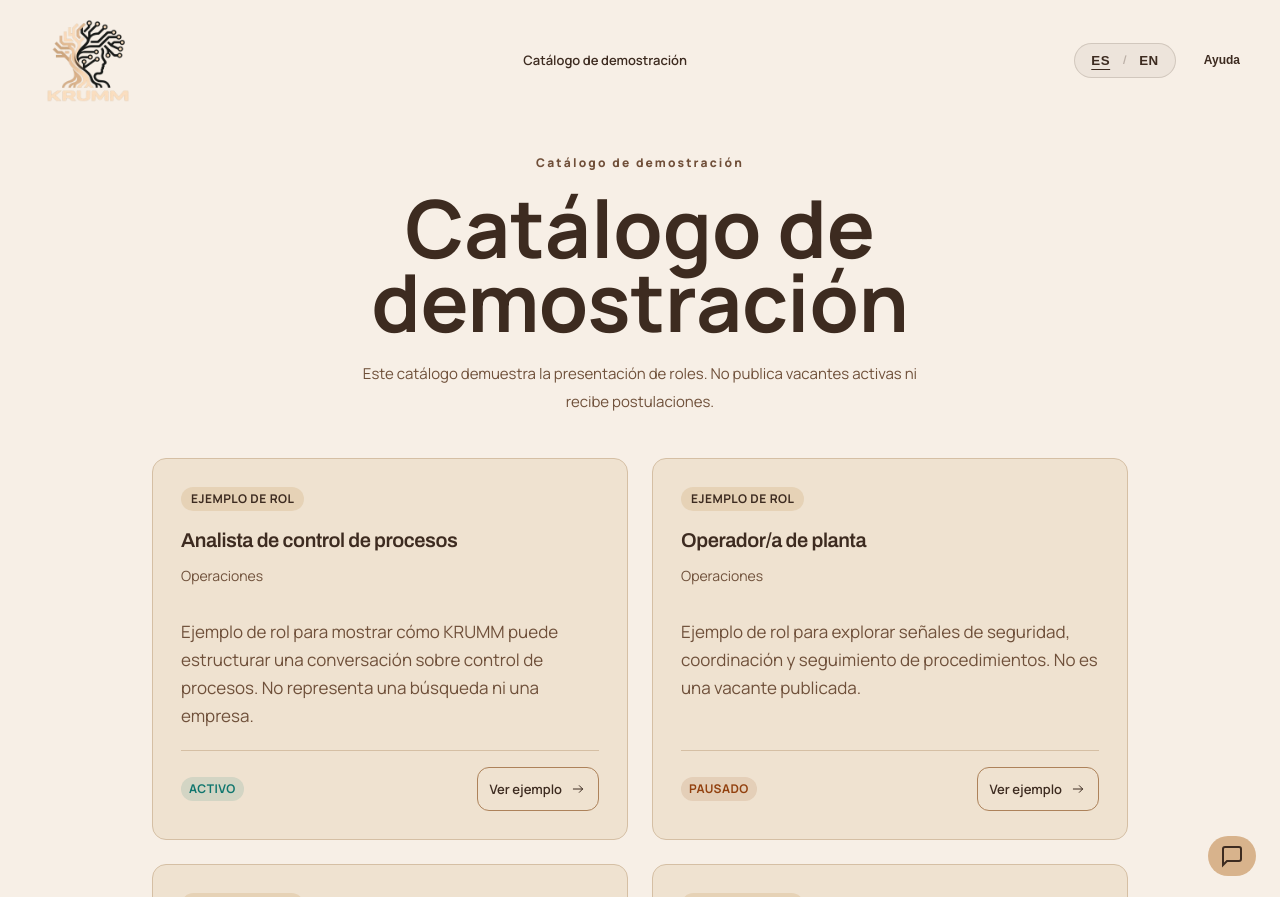
V3RootApp (registro de rutas de la fase con placeholders) › traduce el H1 y breadcrumb de /empleos como catálogo de demostración
Expected: the heading "Catálogo de demostración" is shown, x1=371 y1=173 x2=909 y2=356
Expected: the text with test id "v3-breadcrumb-current" reads "Catálogo de demostración", x1=523 y1=51 x2=687 y2=69
Click the button "EN" at (1149, 60), box x1=1129 y1=46 x2=1169 y2=74
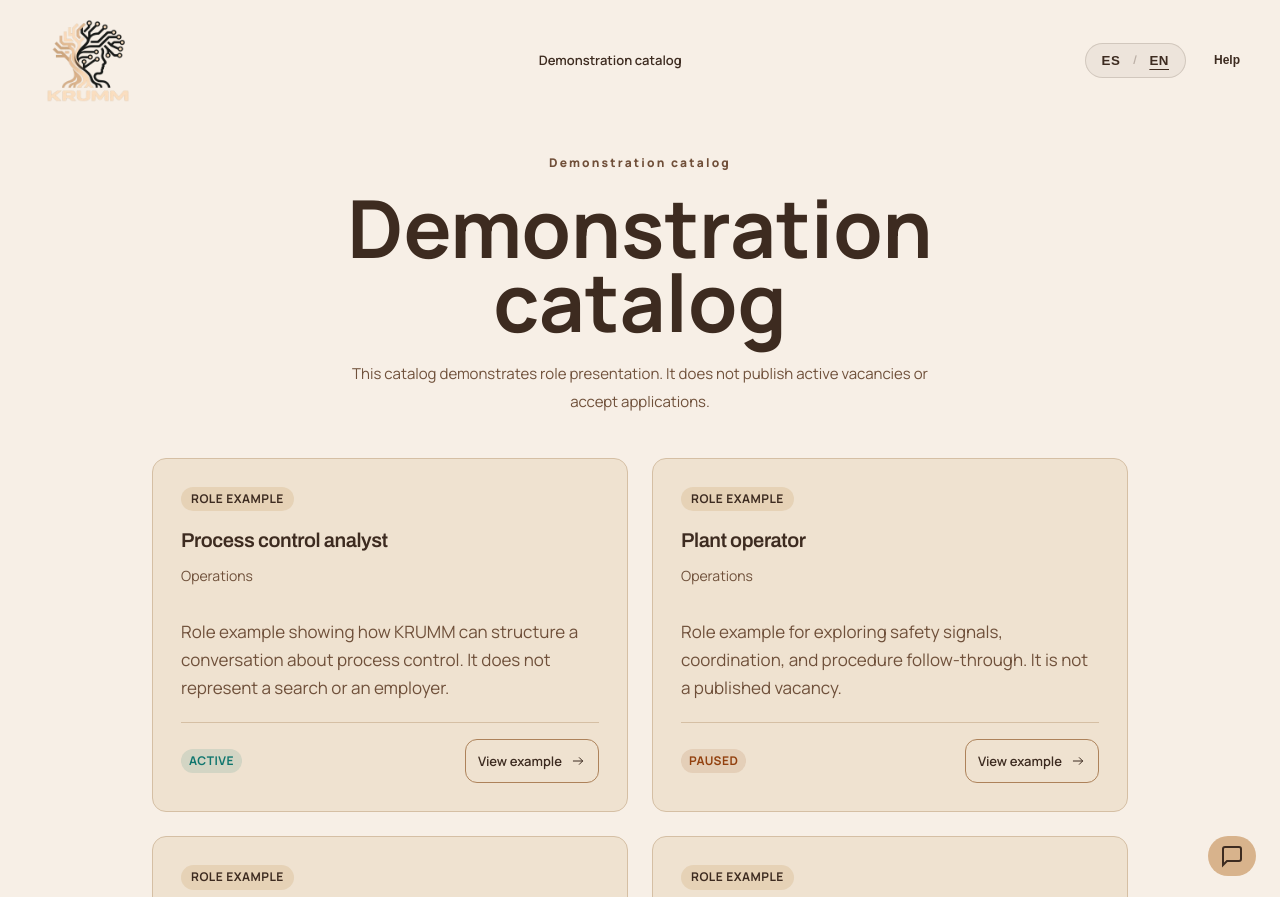
Expected: the heading "Demonstration catalog" is shown, x1=347 y1=173 x2=933 y2=356
Expected: the text with test id "v3-breadcrumb-current" reads "Demonstration catalog", x1=539 y1=51 x2=682 y2=69
